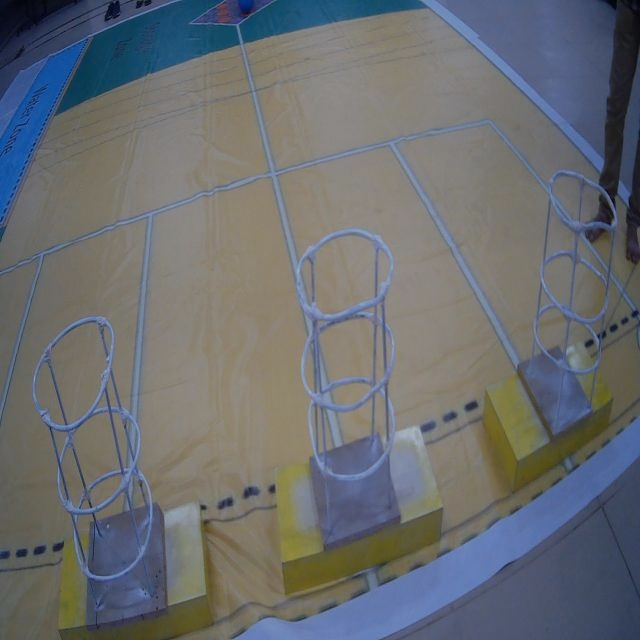silo: (274, 199, 421, 568), (21, 298, 162, 636), (514, 134, 622, 456)
